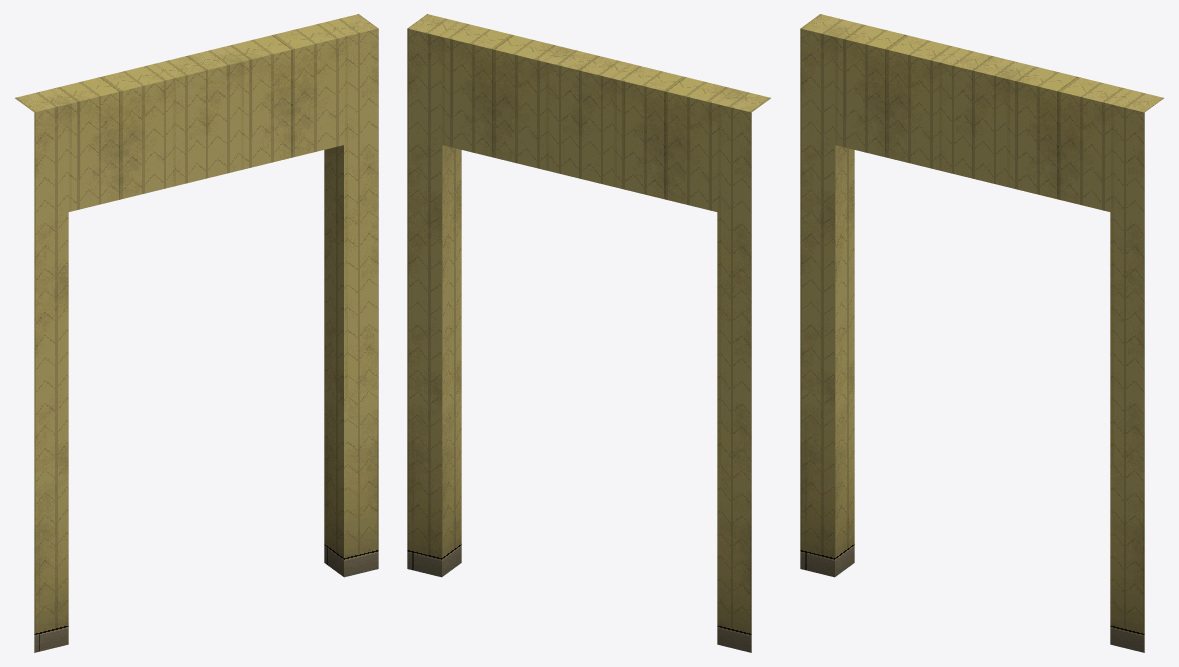
Rendered from wall_yellow_opening.glb.
3 views of the same model, side by side, from view 1: azimuth 30°, elevation 25°; view 2: azimuth 150°, elevation 25°; view 3: azimuth 330°, elevation 25° (orthographic).
Parts seen in each view (by area): view 1: wall_yellow_opening; view 2: wall_yellow_opening; view 3: wall_yellow_opening.
Boxes of the visible parts, x1,y1,x2,y2 form: wall_yellow_opening: (15,14,378,652); wall_yellow_opening: (407,14,770,652); wall_yellow_opening: (800,14,1163,652).
Bounding box in the file's own units: 2 × 3 × 0.2.
